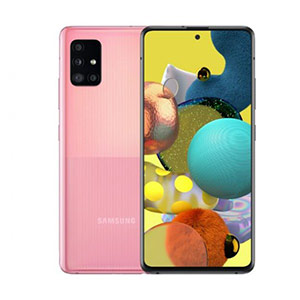Phone: (139, 24, 256, 276), (56, 24, 148, 275)
